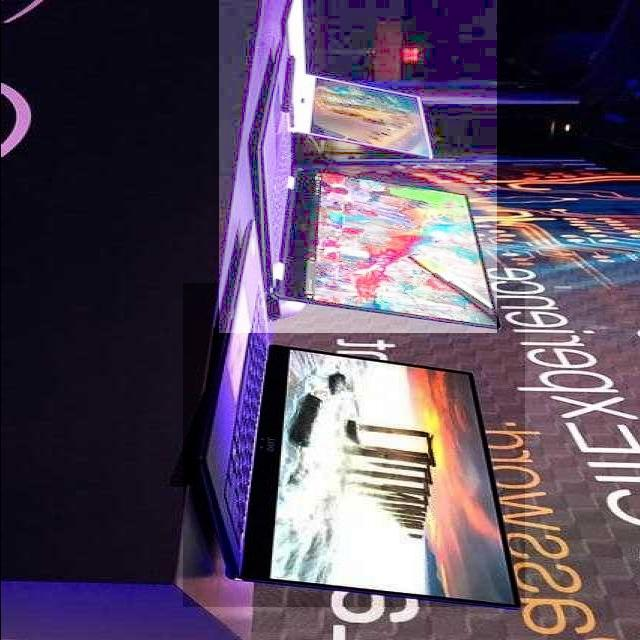-keyboard-: (184, 283, 526, 607), (219, 0, 497, 333), (284, 2, 428, 162)
